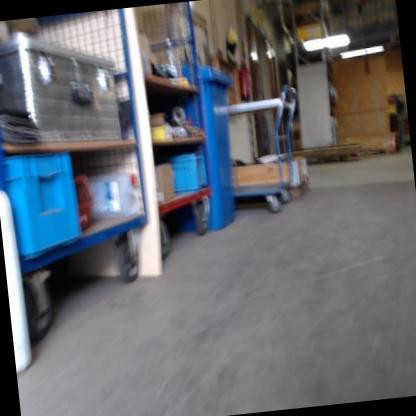small_load_carrier: (0, 140, 85, 263), (157, 137, 211, 196)
